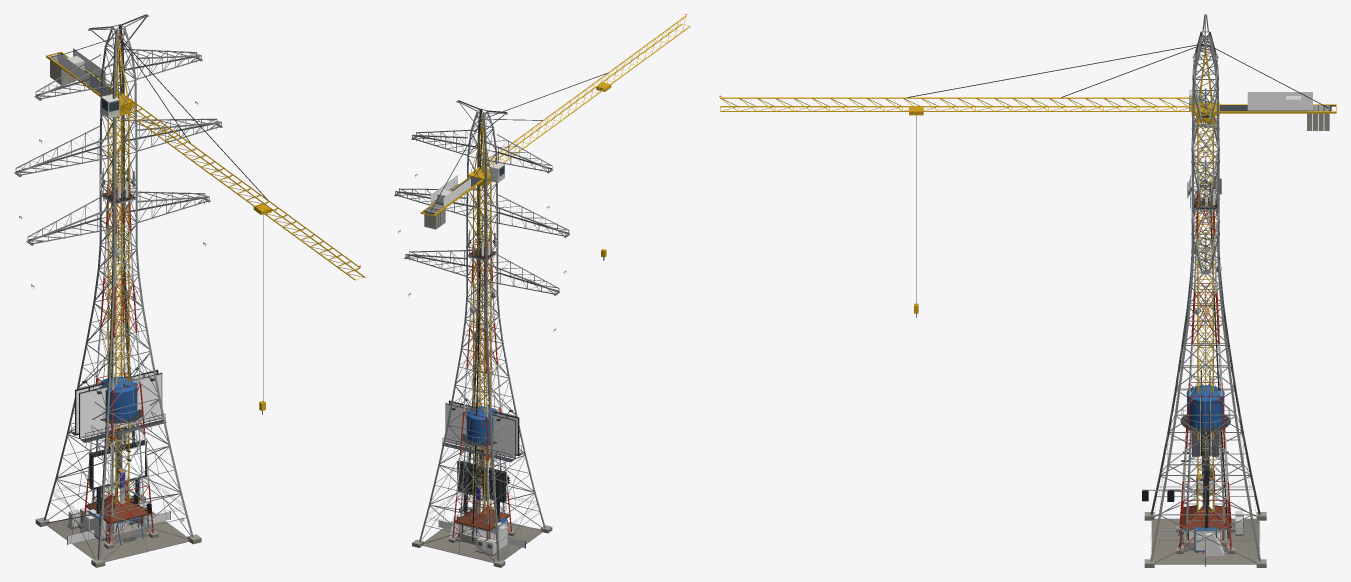
File: envprops.glb
The picture shows the model from 3 angles, left to right: view 1: azimuth 30°, elevation 25°; view 2: azimuth 150°, elevation 25°; view 3: azimuth 270°, elevation 25°; orthographic projection. The views are drawn at different scales.
Visible parts, largest first — view 1: sutet_lod0, bts_lod0, crane_top_lod0, crane_lod0, board_lod0, wtower_lod0, video_lod0, gazebo_lod0, cabin_lod0; view 2: sutet_lod0, bts_lod0, crane_top_lod0, crane_lod0, board_lod0, wtower_lod0, video_lod0, gazebo_lod0, goal_l_lod0; view 3: sutet_lod0, crane_top_lod0, bts_lod0, wtower_lod0, crane_lod0, board_lod0, gazebo_lod0.
Part boxes in pixels (x1=…): sutet_lod0: x1=14, y1=14, x2=222, y2=567; bts_lod0: x1=46, y1=149, x2=189, y2=561; crane_top_lod0: x1=46, y1=34, x2=365, y2=414; crane_lod0: x1=105, y1=114, x2=147, y2=543; board_lod0: x1=70, y1=367, x2=166, y2=497; wtower_lod0: x1=92, y1=376, x2=149, y2=544; video_lod0: x1=88, y1=440, x2=147, y2=513; gazebo_lod0: x1=86, y1=495, x2=150, y2=542; cabin_lod0: x1=88, y1=500, x2=148, y2=541; sutet_lod0: x1=394, y1=100, x2=570, y2=567; bts_lod0: x1=422, y1=214, x2=542, y2=562; crane_top_lod0: x1=420, y1=14, x2=690, y2=260; crane_lod0: x1=457, y1=182, x2=491, y2=544; board_lod0: x1=442, y1=398, x2=522, y2=508; wtower_lod0: x1=456, y1=406, x2=508, y2=541; video_lod0: x1=456, y1=460, x2=506, y2=522; gazebo_lod0: x1=455, y1=506, x2=509, y2=538; goal_l_lod0: x1=449, y1=514, x2=507, y2=549; sutet_lod0: x1=1144, y1=14, x2=1266, y2=567; crane_top_lod0: x1=719, y1=40, x2=1336, y2=317; bts_lod0: x1=1151, y1=156, x2=1259, y2=564; wtower_lod0: x1=1180, y1=385, x2=1230, y2=551; crane_lod0: x1=1184, y1=122, x2=1226, y2=550; board_lod0: x1=1189, y1=369, x2=1221, y2=508; gazebo_lod0: x1=1181, y1=505, x2=1229, y2=544.
Size of what is drawn, in the model's own units: 25.3 by 60.77 by 66.17.
